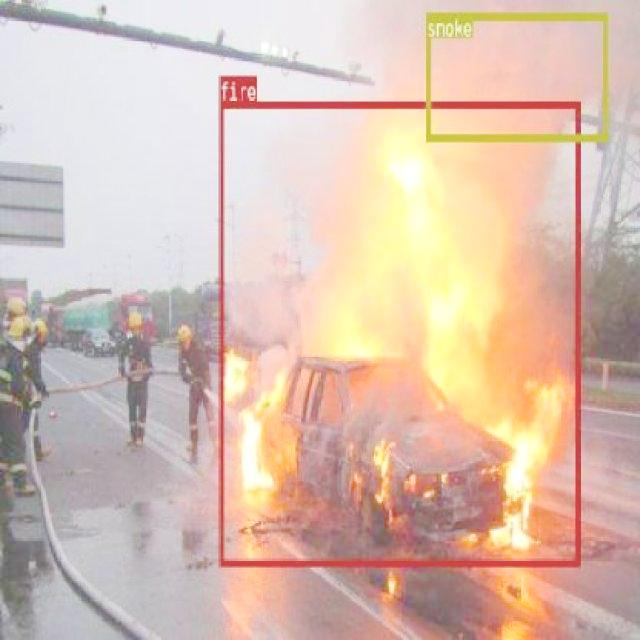fire: (218, 100, 578, 566)
smoke: (426, 11, 606, 140)
